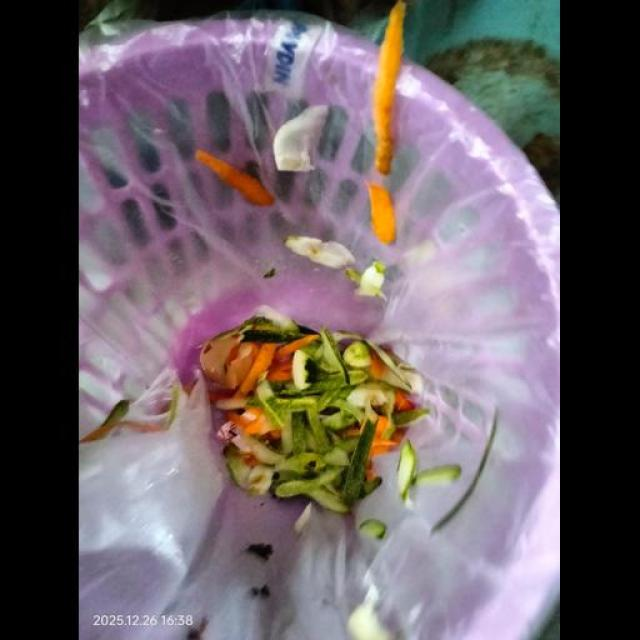organic: (217, 307, 426, 512), (433, 413, 497, 532), (343, 422, 374, 504), (367, 342, 412, 392), (82, 400, 129, 442), (275, 469, 342, 497), (320, 329, 349, 384), (239, 317, 302, 342), (278, 374, 346, 397), (279, 374, 343, 397), (257, 380, 286, 429), (323, 399, 364, 431), (275, 452, 331, 474), (242, 434, 283, 464), (397, 440, 417, 499), (224, 447, 251, 488), (307, 407, 329, 452), (414, 465, 461, 486), (308, 489, 348, 513), (243, 328, 301, 342), (100, 400, 129, 427), (247, 465, 273, 494), (343, 342, 371, 368), (332, 399, 363, 422), (293, 350, 311, 389), (318, 388, 347, 411), (167, 382, 181, 427), (393, 408, 428, 426), (323, 412, 356, 431), (273, 397, 317, 411), (292, 412, 306, 454), (359, 519, 386, 539), (281, 414, 294, 454), (324, 448, 349, 466), (360, 477, 382, 497), (334, 437, 358, 453), (349, 370, 367, 386), (344, 268, 361, 284), (263, 268, 276, 278)
